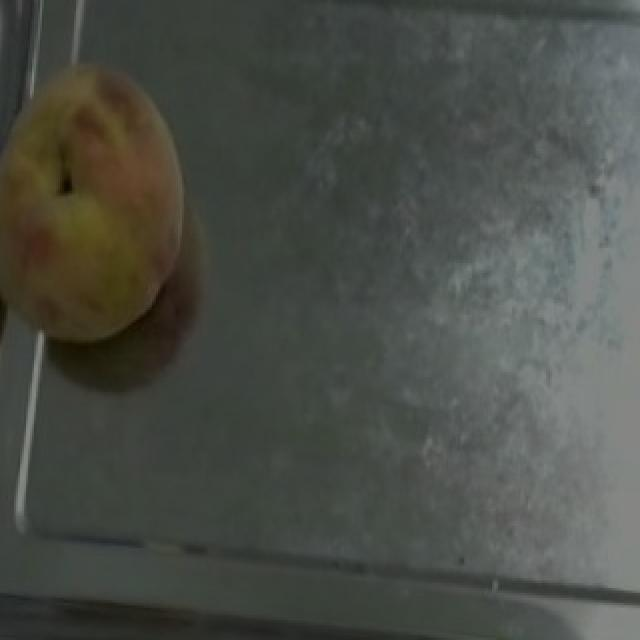Fruit: (0, 27, 206, 362)
